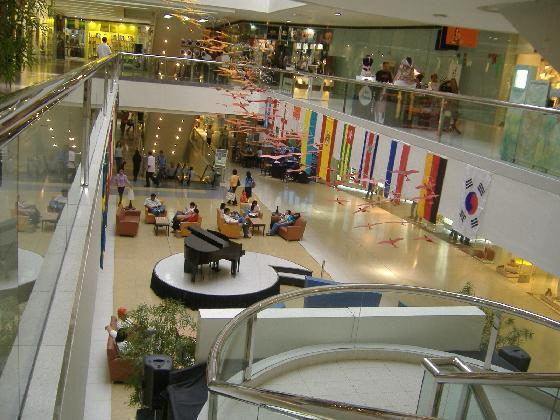Escaleras: (223, 272, 556, 416)
